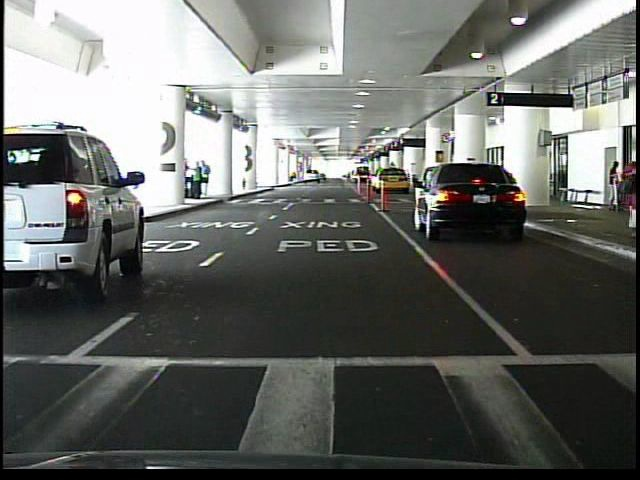person: (617, 149, 640, 240), (606, 160, 620, 213), (189, 160, 203, 200), (201, 161, 212, 198)
